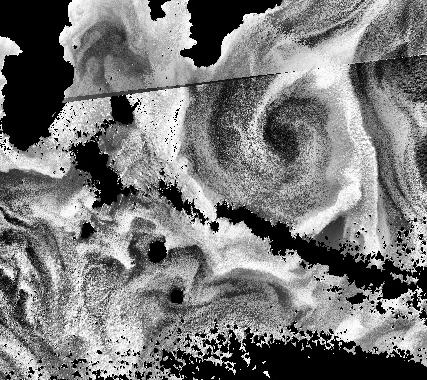CE: (190, 48, 365, 209)
